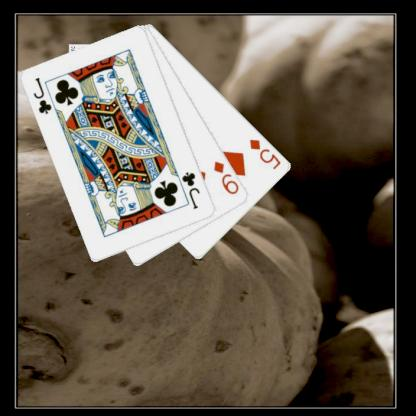5D: (247, 136, 282, 171)
9D: (211, 158, 240, 196)
JC: (179, 169, 202, 211), (30, 74, 53, 116)
